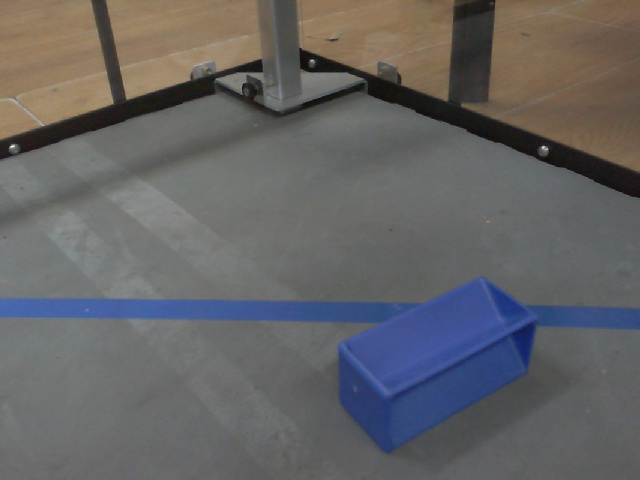BlueSample: (332, 270, 544, 453)
